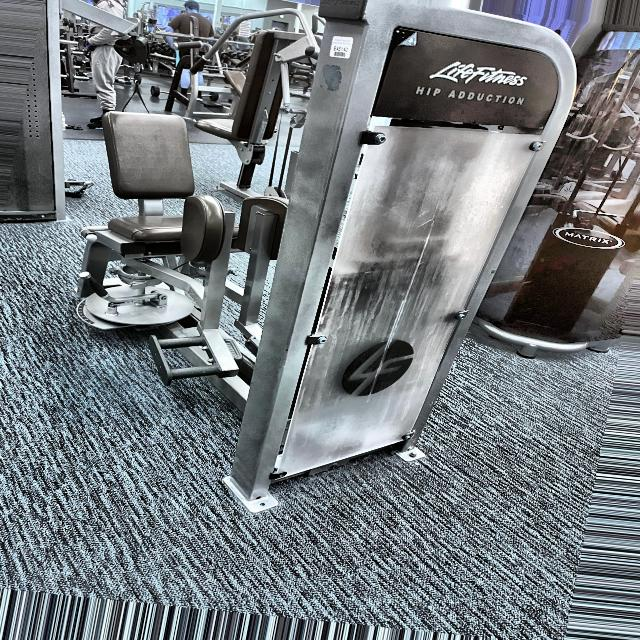hip_adduction_machine: (83, 89, 273, 413), (412, 76, 536, 132)
